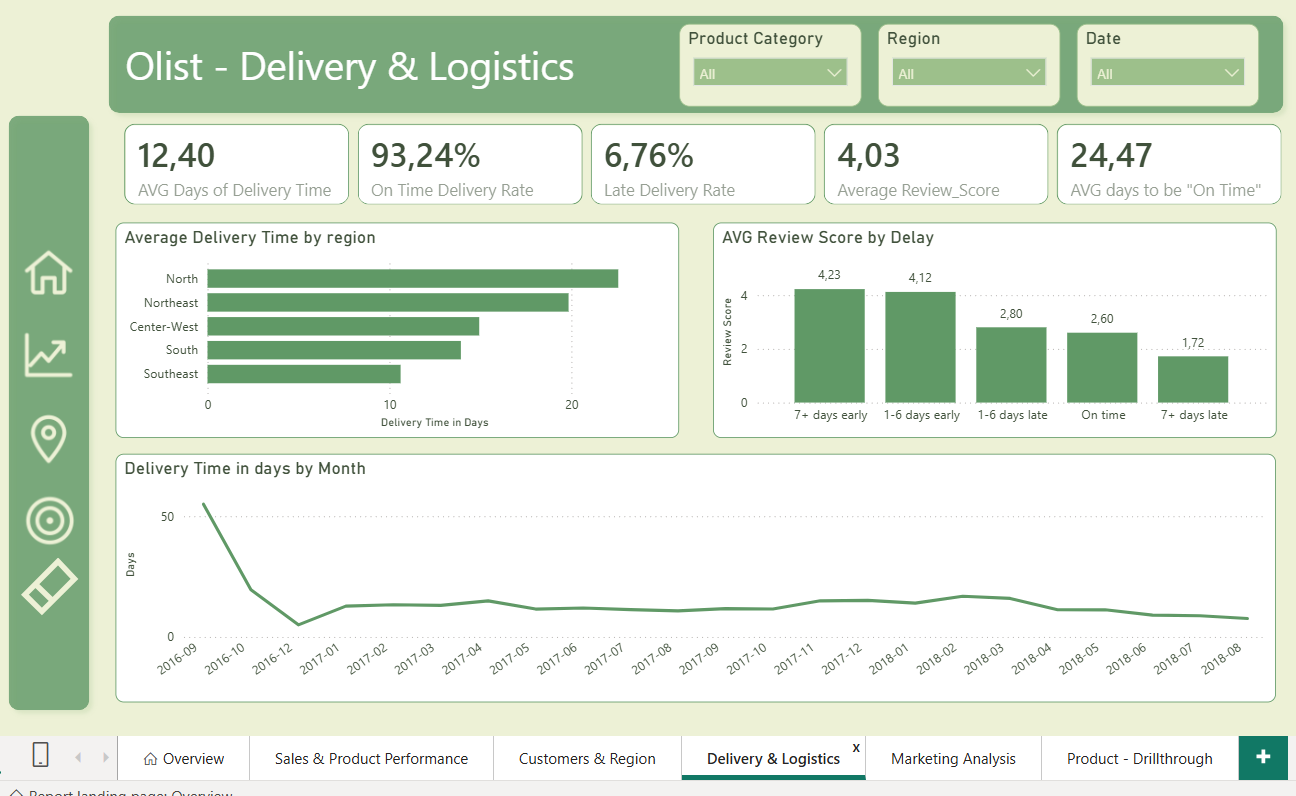

This screenshot's page, from the dashboard's own definition file:
{"tool":"powerbi","page":{"name":" Delivery & Logistics","canvas":[1280,720],"ordinal":3},"visuals":[{"type":"shape","box":[112,16,1152,112],"z":0},{"type":"shape","box":[16,112,96,592],"z":0,"group":"g1"},{"type":"slicer","title":"Product Category","fields":{"Values":["olist_products4.product_category_name_english"]},"box":[672,32,176,80],"z":1000},{"type":"actionButton","box":[32,240,64,64],"z":1000,"group":"g1"},{"type":"slicer","title":"Region","fields":{"Values":["olist_customers2.customer region Hierarchy.customer region","olist_customers2.customer region Hierarchy.customer_city"]},"box":[864,32,176,80],"z":2000},{"type":"actionButton","box":[32,320,64,64],"z":2000,"group":"g1"},{"type":"group","id":"g1","title":"Group 1","box":[16,112,96,592],"z":3000},{"type":"actionButton","box":[32,400,64,64],"z":3000,"group":"g1"},{"type":"cardVisual","fields":{"Data":["MyMeasure.DeliveryTimeDays","MyMeasure.OnTimeDeliveryRate","MyMeasure.LateDeliveryRate","Avg(olist_orders1.review_score)","MyMeasure.AVG OnTimeDeliveries"]},"box":[120,112,1152,112],"z":4000},{"type":"actionButton","box":[32,544,64,64],"z":5000},{"type":"slicer","title":"Date","fields":{"Values":["Calendar.Year Hierarchy.Year","Calendar.Year Hierarchy.Quarter","Calendar.Year Hierarchy.Month"]},"box":[1056,32,176,80],"z":6000},{"type":"columnChart","title":"AVG Review  Score by Delay","fields":{"Y":["Avg(olist_orders1.review_score)"],"Category":["olist_orders1.DelayBucket"]},"box":[704,224,544,208],"z":7000},{"type":"barChart","title":"Average Delivery Time by region","fields":{"Category":["olist_customers2.customer region Hierarchy.customer region","olist_customers2.customer region Hierarchy.customer_city"],"Y":["MyMeasure.DeliveryTimeDays"]},"box":[128,224,544,208],"z":8000},{"type":"lineChart","title":"Delivery Time in days by Month","fields":{"Y":["MyMeasure.DeliveryTimeDays"],"Category":["Calendar.Year-Month"]},"box":[128,448,1120,240],"z":9000},{"type":"actionButton","box":[32,480,64,64],"z":10000}]}

Visuals, with their boxes on the page's 1280x720 design canvas (x1, y1, x2, y2). These are canvas units, not pixel positions in the 1296x796 screenshot, which may show the page scaled, cropped or inside an application window:
shape: x1=112, y1=16, x2=1264, y2=128
shape: x1=16, y1=112, x2=112, y2=704
"Product Category" slicer: x1=672, y1=32, x2=848, y2=112
actionButton: x1=32, y1=240, x2=96, y2=304
"Region" slicer: x1=864, y1=32, x2=1040, y2=112
actionButton: x1=32, y1=320, x2=96, y2=384
"Group 1" group: x1=16, y1=112, x2=112, y2=704
actionButton: x1=32, y1=400, x2=96, y2=464
cardVisual - MyMeasure.DeliveryTimeDays x MyMeasure.OnTimeDeliveryRate: x1=120, y1=112, x2=1272, y2=224
actionButton: x1=32, y1=544, x2=96, y2=608
"Date" slicer: x1=1056, y1=32, x2=1232, y2=112
"AVG Review  Score by Delay" columnChart: x1=704, y1=224, x2=1248, y2=432
"Average Delivery Time by region" barChart: x1=128, y1=224, x2=672, y2=432
"Delivery Time in days by Month" lineChart: x1=128, y1=448, x2=1248, y2=688
actionButton: x1=32, y1=480, x2=96, y2=544
